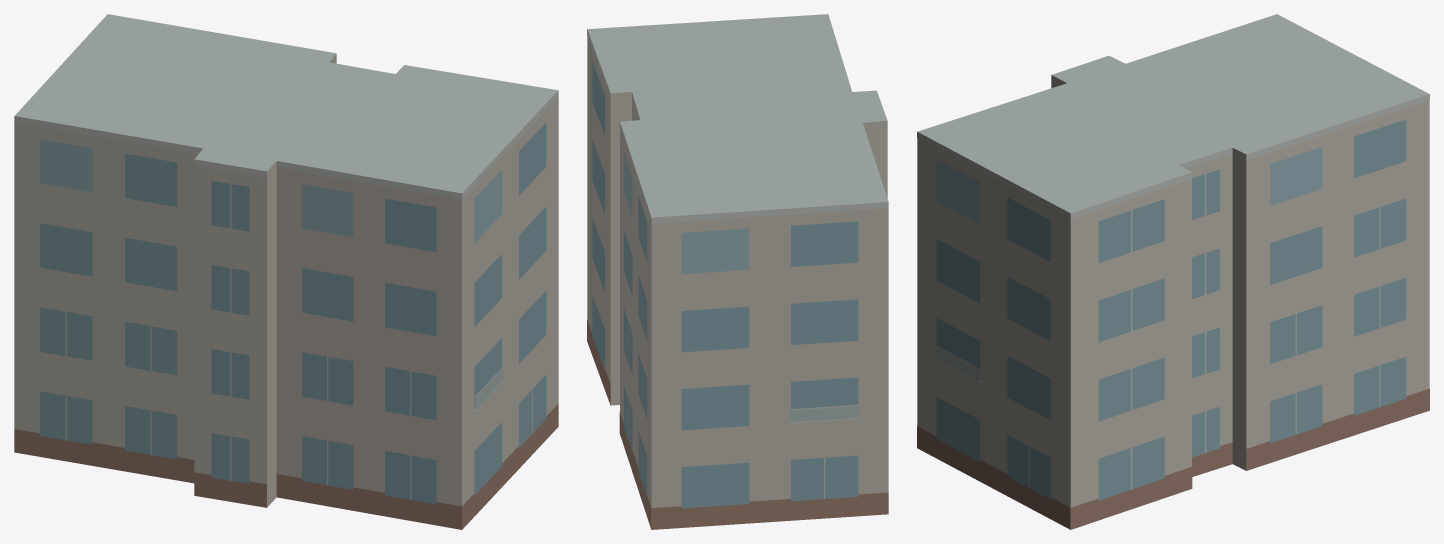
Rendered from survey-upis-33045581.glb.
3 renders of one model, left to right at view 1: azimuth 30°, elevation 25°; view 2: azimuth 150°, elevation 25°; view 3: azimuth 270°, elevation 25°, orthographic. The views are drawn at different scales.
Visible parts, largest first — view 1: survey-upis-33045581.tmp; view 2: survey-upis-33045581.tmp; view 3: survey-upis-33045581.tmp.
Part boxes in pixels (box(x1,y1,x2,y2)): survey-upis-33045581.tmp: box(14, 14, 558, 529); survey-upis-33045581.tmp: box(587, 14, 888, 529); survey-upis-33045581.tmp: box(917, 14, 1429, 529).
Size of the model in its own units: 16.9 by 12.5 by 18.36.
